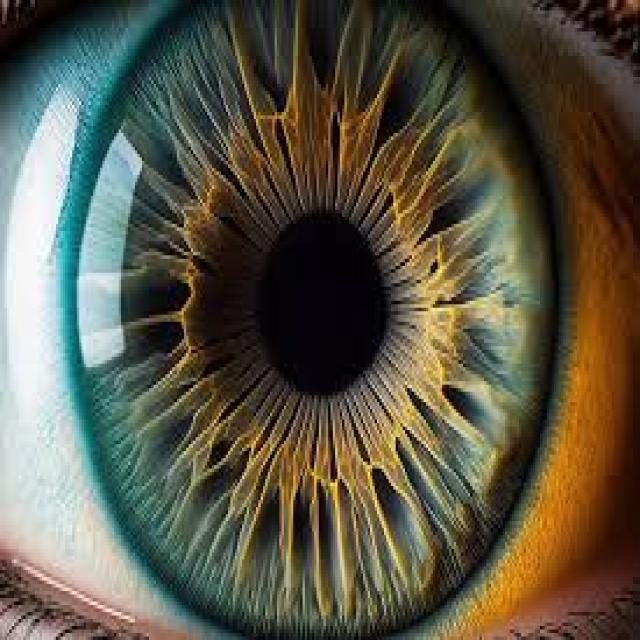Eyes-iris: (49, 3, 582, 640)
